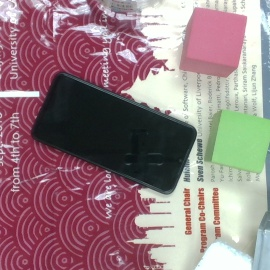phone: (32, 73, 197, 198)
